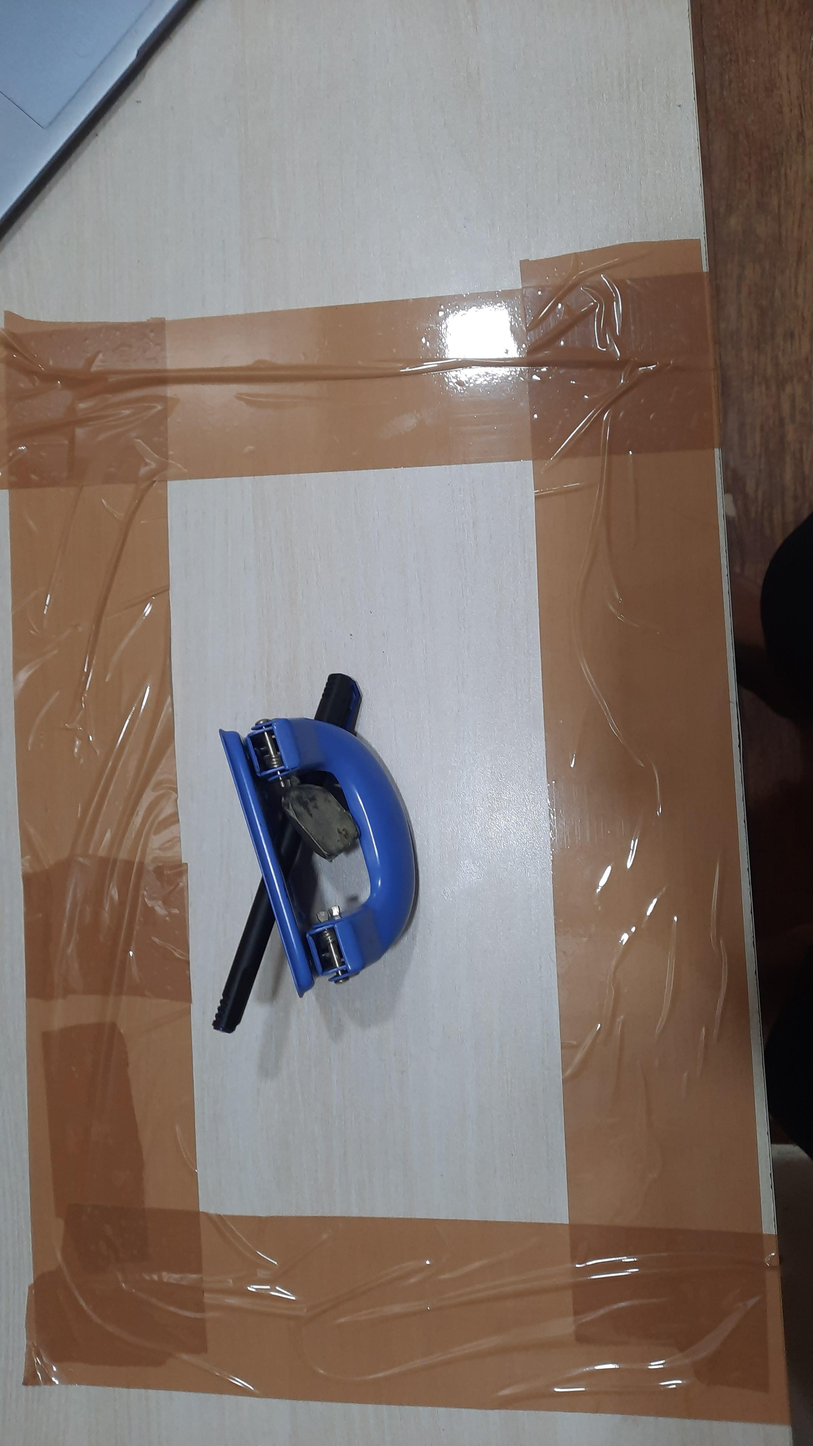Eraser: (280, 784, 360, 861)
Pen: (211, 672, 363, 1034)
Punch: (219, 716, 420, 999)
